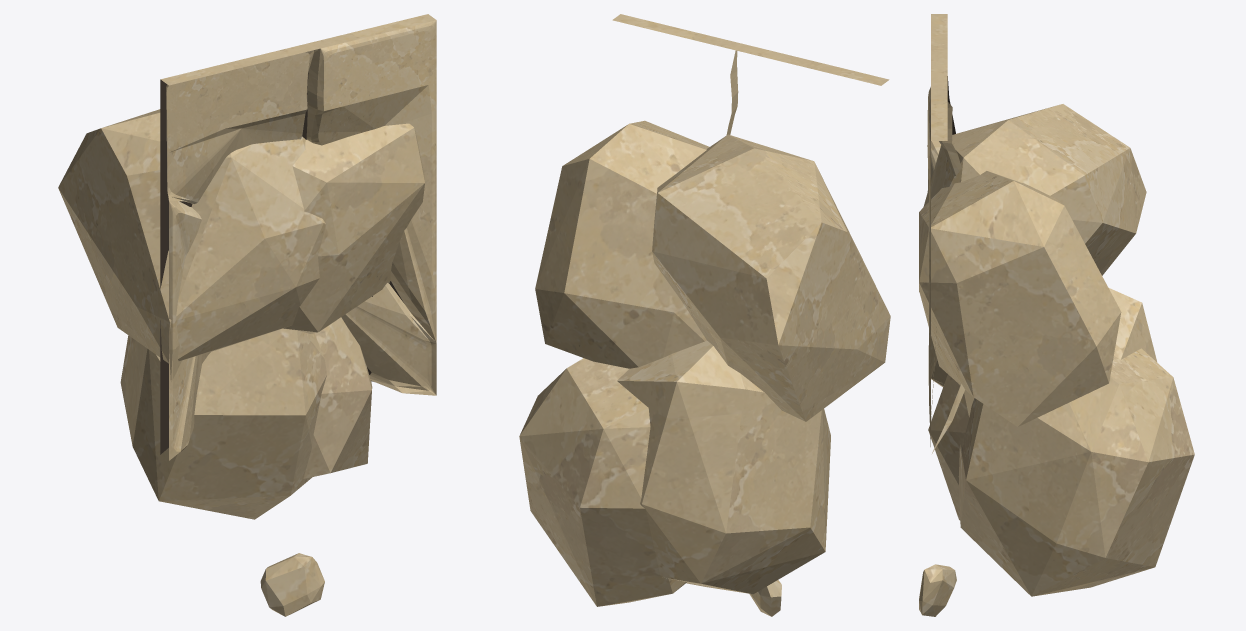
File: ground_bottom_square_edge_07.glb
3 renders of one model, left to right at view 1: azimuth 30°, elevation 25°; view 2: azimuth 150°, elevation 25°; view 3: azimuth 270°, elevation 25°, orthographic. The views are drawn at different scales.
Visible parts, largest first — view 1: GroundBottomSquareEdge07_Body; view 2: GroundBottomSquareEdge07_Body; view 3: GroundBottomSquareEdge07_Body.
Boxes of the visible parts, <box> form: GroundBottomSquareEdge07_Body: <box>58,14,436,616</box>; GroundBottomSquareEdge07_Body: <box>519,14,890,616</box>; GroundBottomSquareEdge07_Body: <box>919,14,1194,616</box>.
Size of the model in its own units: 1 by 1.99 by 1.04.
Materials: 6 (5 with a texture image).
